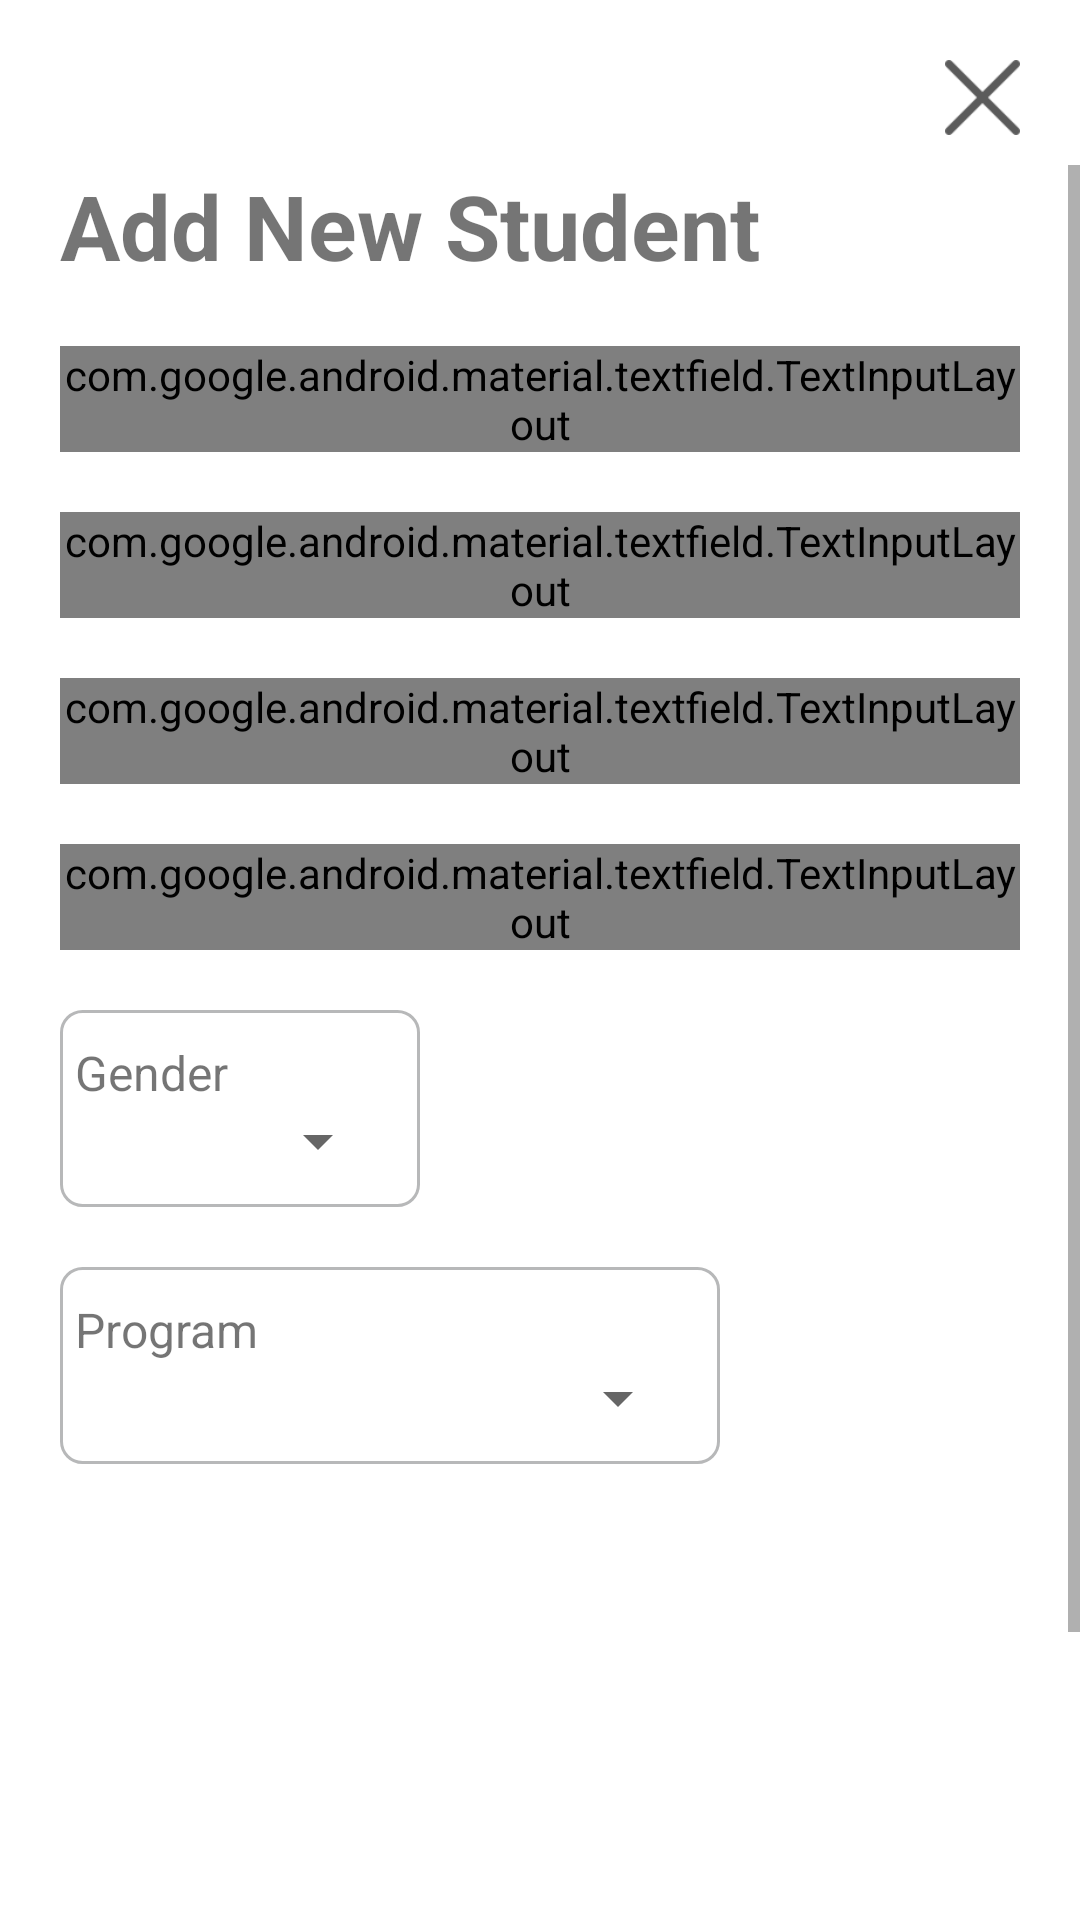

Named icons in this screenshot (1080x1920) and their bounding boxes, detection(x1, y1, x2, y2):
cancel: detection(945, 60, 1020, 135)
